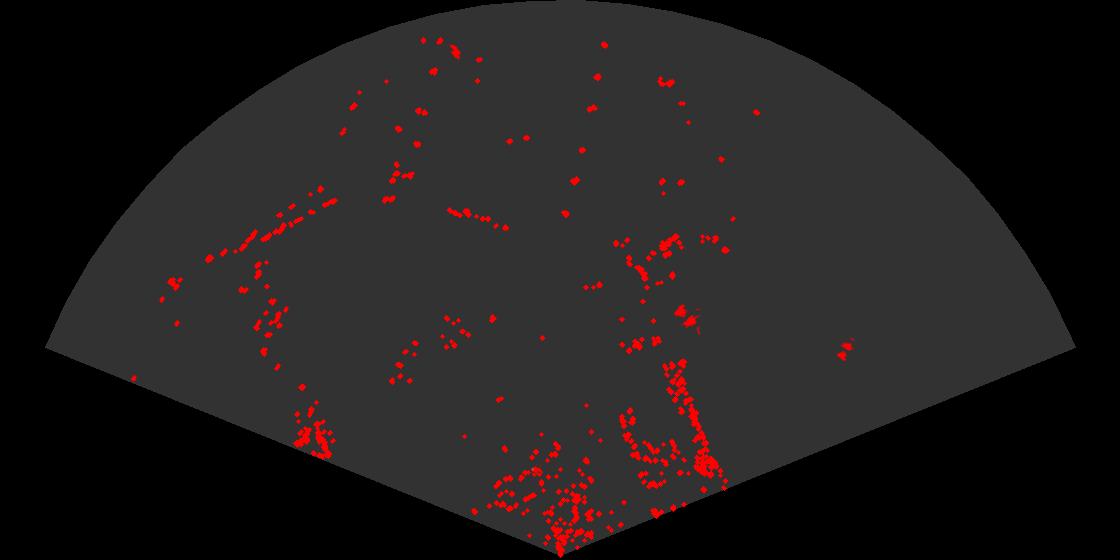AUV: (448, 42, 462, 61), (529, 464, 545, 475)
cage: (672, 302, 700, 335), (835, 338, 854, 363)
